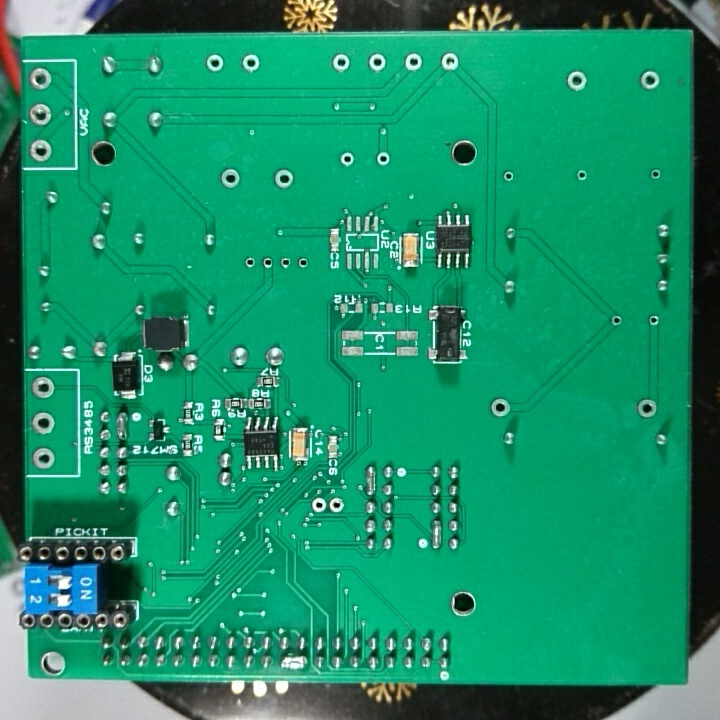F: (27, 64, 55, 93), (30, 446, 57, 473), (28, 137, 55, 164), (28, 100, 54, 128), (272, 165, 297, 194), (31, 410, 57, 437), (30, 373, 56, 400), (219, 164, 244, 192), (637, 67, 662, 95), (564, 69, 590, 95), (634, 395, 659, 422), (487, 395, 514, 420), (402, 49, 425, 75), (439, 49, 461, 75), (240, 52, 263, 76), (365, 49, 388, 73), (204, 51, 225, 76), (330, 51, 351, 75), (337, 149, 359, 171), (372, 149, 393, 171), (309, 495, 328, 517), (328, 496, 346, 516), (294, 252, 311, 272), (259, 255, 277, 273), (501, 167, 518, 186), (242, 255, 259, 273), (608, 312, 625, 330), (575, 166, 590, 186), (646, 312, 663, 329), (648, 164, 663, 183), (278, 255, 293, 272)
P: (279, 652, 311, 674), (114, 409, 131, 443), (430, 516, 446, 552), (364, 462, 379, 498)
